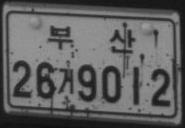0: (101, 63, 121, 103)
1: (126, 66, 144, 105)
2: (150, 67, 170, 106), (12, 59, 32, 97)
6: (36, 61, 55, 98)
9: (77, 63, 97, 102)
거: (58, 67, 73, 95)
부산_D: (47, 24, 137, 54)
